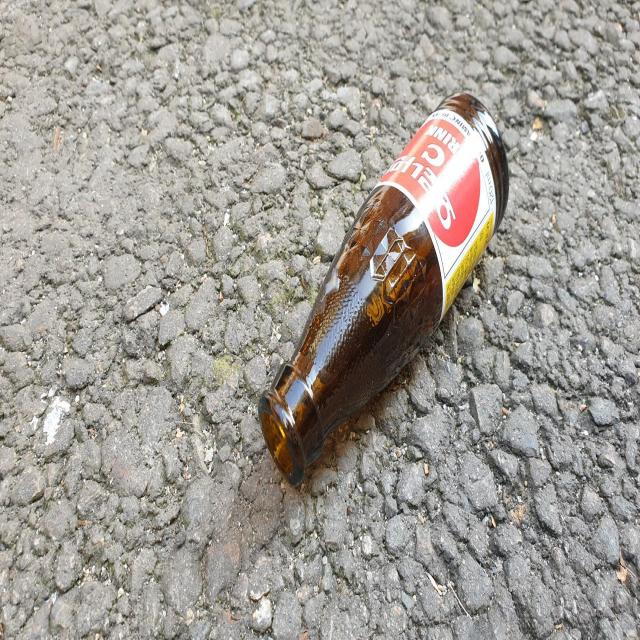glass: (259, 92, 509, 485)
